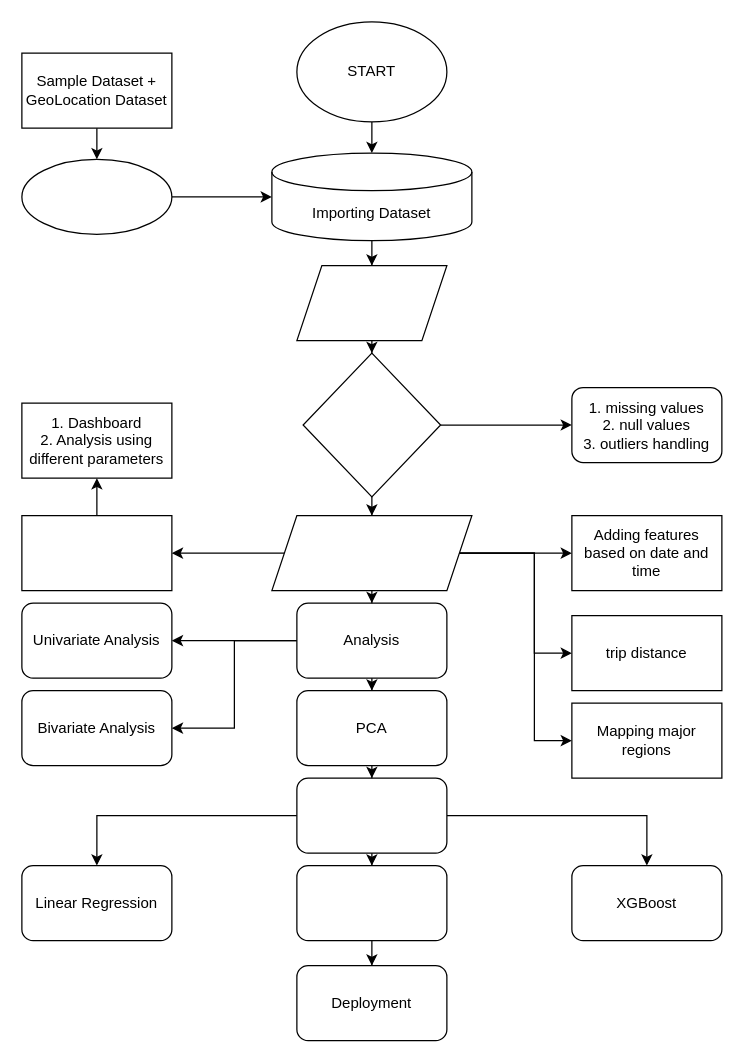
Some shapes in this 744 by 1063 pixel diagram are drawn without their labels. Here are the shapes that lost their labels. From the top down, the centre of each, then its label:
At point (96, 196): "AWS".
At point (371, 302): "EDA".
At point (371, 424): "Data Cleaning".
At point (96, 552): "PowerBI".
At point (371, 552): "Feature Engineering".
At point (371, 815): "ML Algorithms".
At point (371, 902): "Random Forest".
